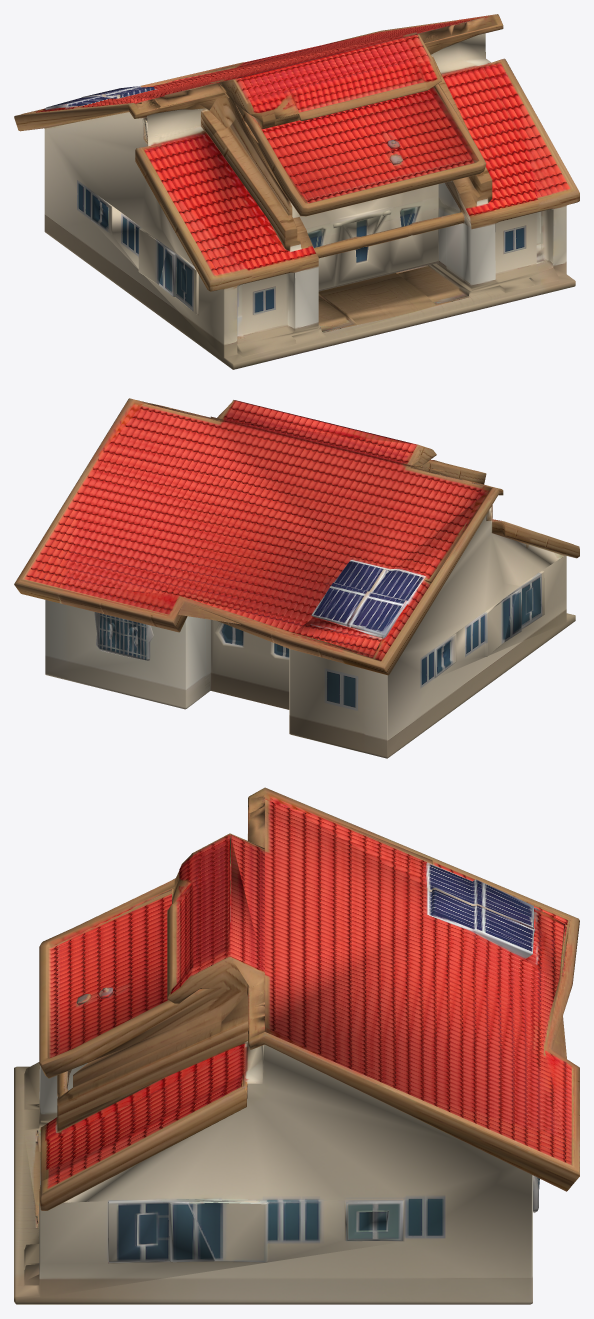
The model's file is bld_556597977.glb.
3 renders of one model, top to bottom at view 1: azimuth 30°, elevation 25°; view 2: azimuth 150°, elevation 25°; view 3: azimuth 270°, elevation 25°, orthographic. The views are drawn at different scales.
Size of the model in its own units: 1.91 by 1.06 by 1.84.
Materials: 1 (1 with a texture image).
